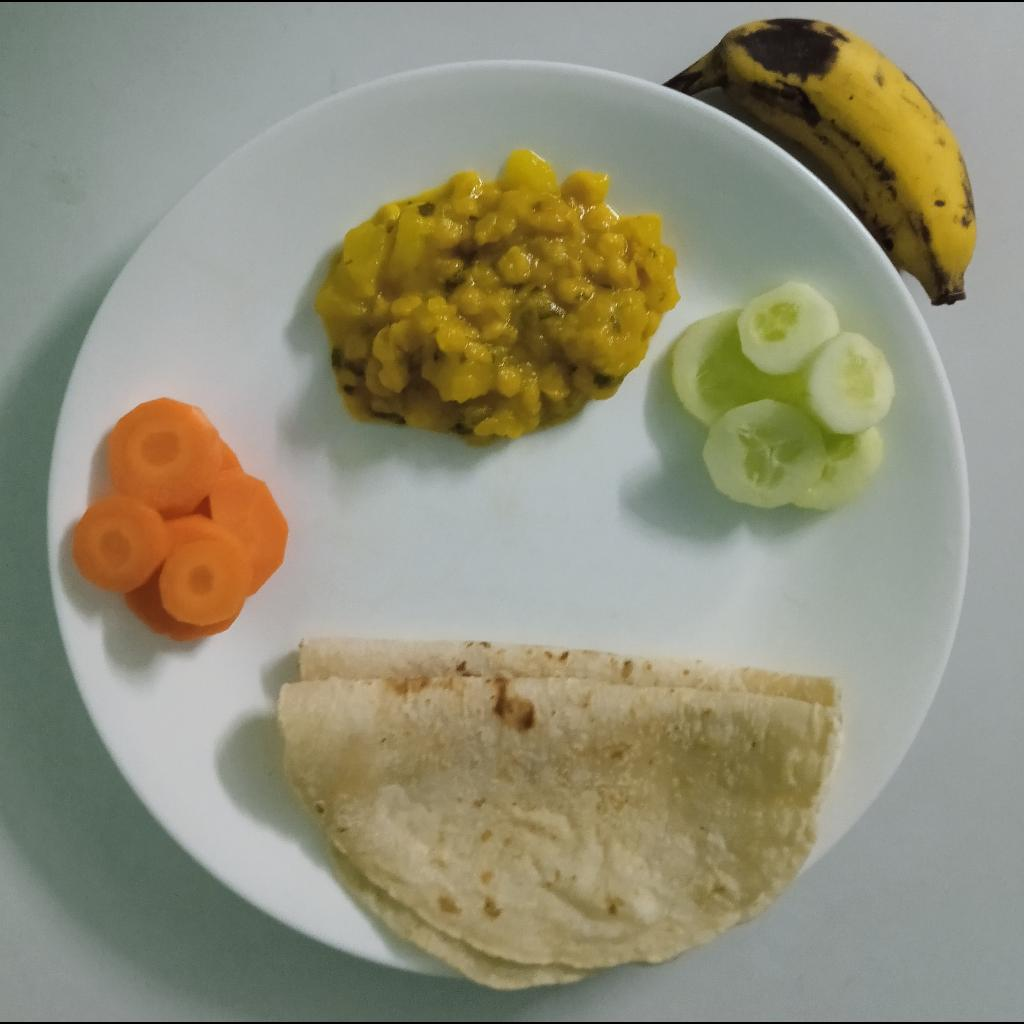banana: (664, 18, 980, 304)
carrot: (72, 397, 288, 641)
cucumber: (673, 280, 895, 510)
daal: (319, 148, 679, 444)
ruti: (278, 640, 840, 990)
